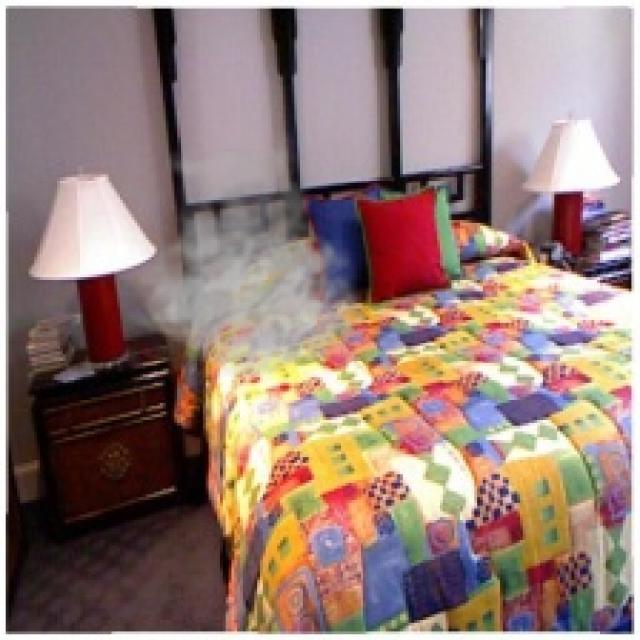smoke: (123, 129, 371, 380)
